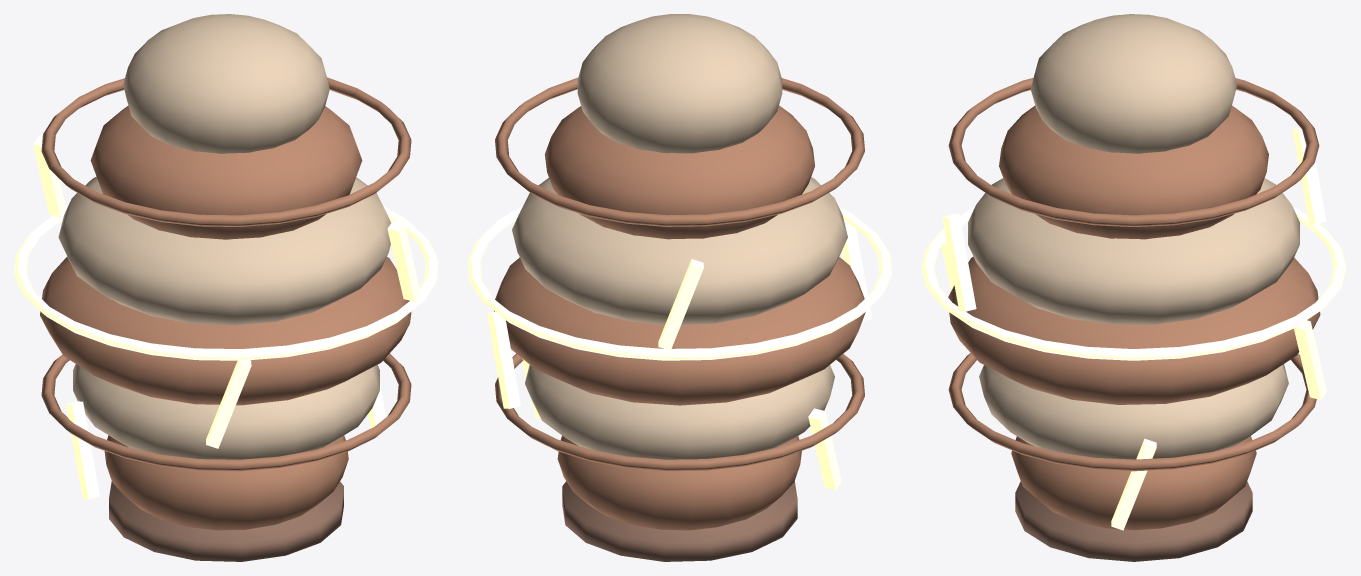
The model's file is egg_desert_08.glb.
The picture shows the model from 3 angles, left to right: view 1: azimuth 30°, elevation 25°; view 2: azimuth 150°, elevation 25°; view 3: azimuth 270°, elevation 25°; orthographic projection.
Parts seen in each view (by area): view 1: ball; view 2: ball; view 3: ball.
Part boxes in pixels (x1,y1,x2,y2): ball: (14, 14, 438, 561); ball: (467, 14, 892, 561); ball: (921, 14, 1346, 561).
Bounding box in the file's own units: 0.79 × 0.99 × 0.79.
